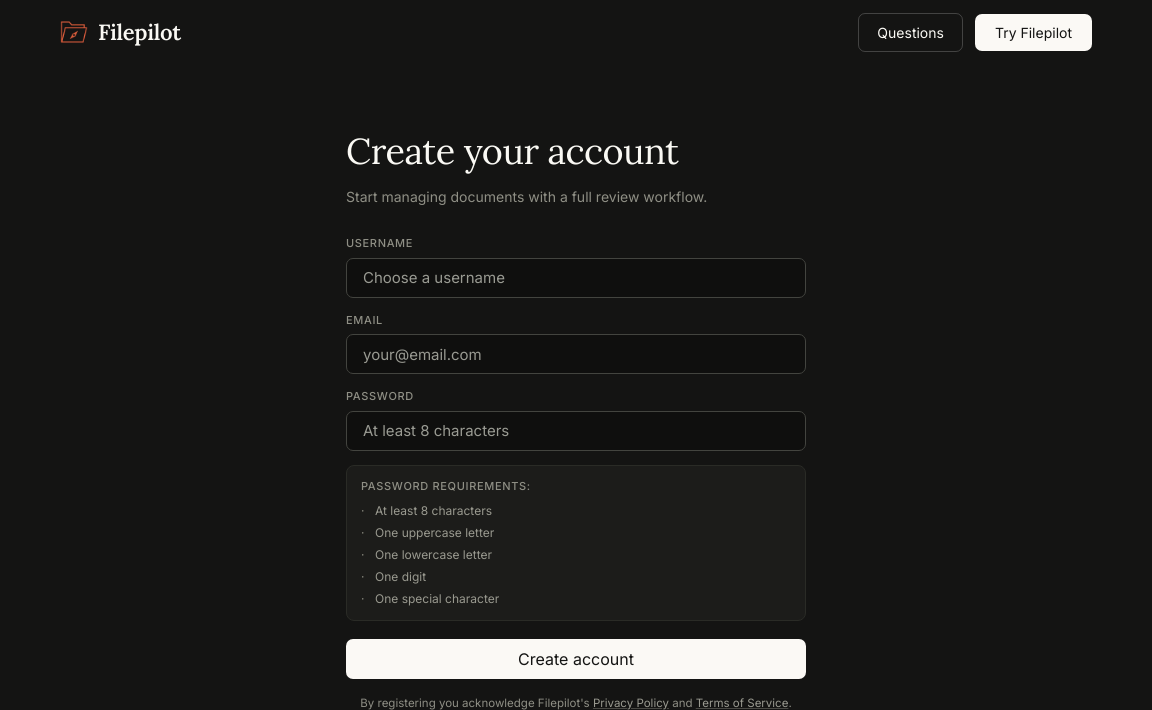
Test: RegisterPage – form submission › displays fallback error when no server message
In the field with placeholder "Choose a username": (576, 278) 346,258 -> 806,298, type "alice"
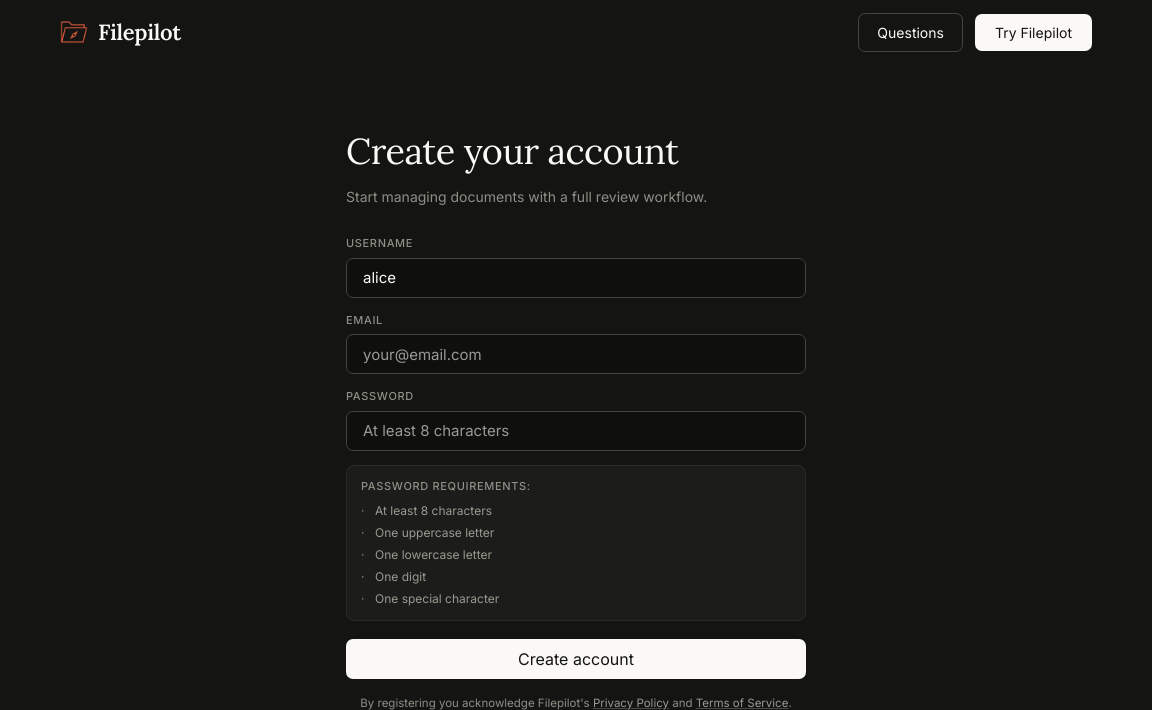
In the field with placeholder "your@email.com": (576, 354) 346,334 -> 806,374, type "a@b.com"
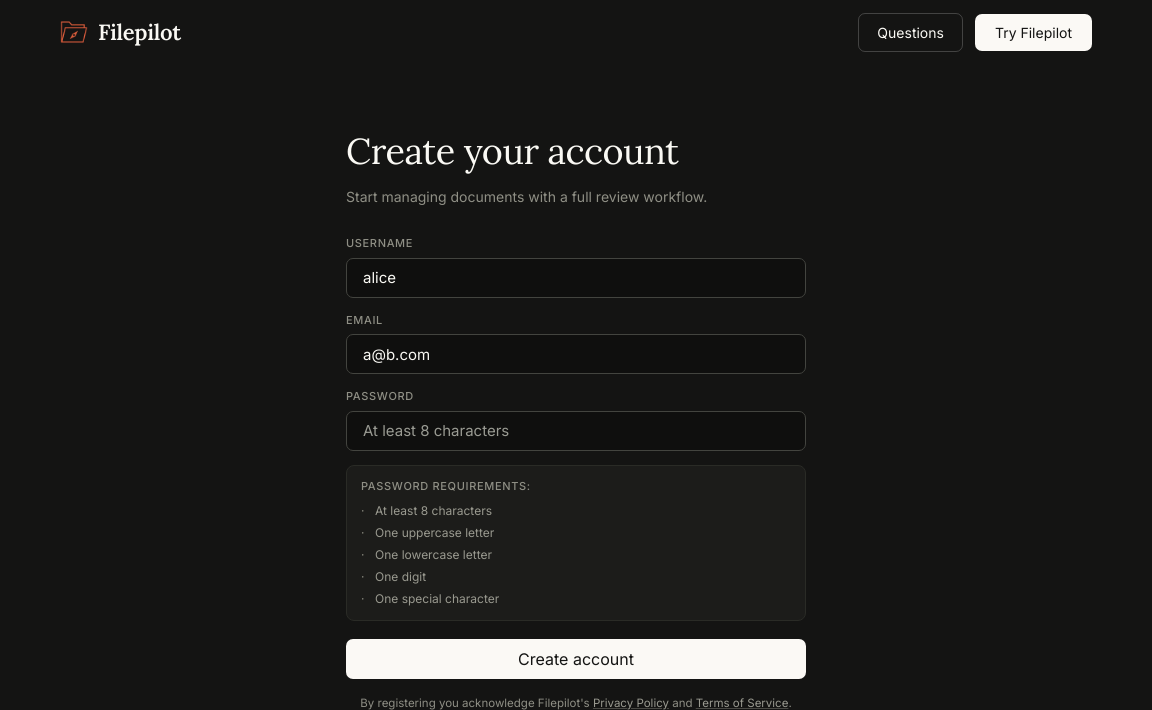
In the password field with placeholder "At least 8 characters": (576, 430) 346,410 -> 806,450, type "Abcdef1!"
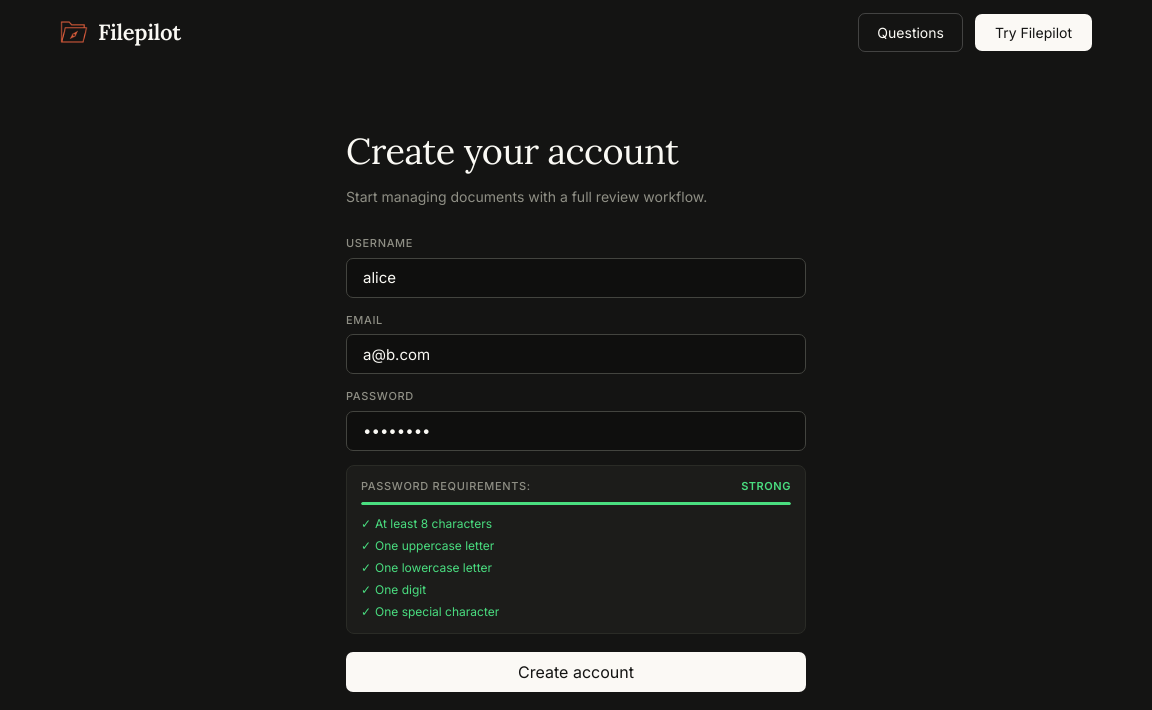
Submit the form named "create account", box 346,235 -> 806,692
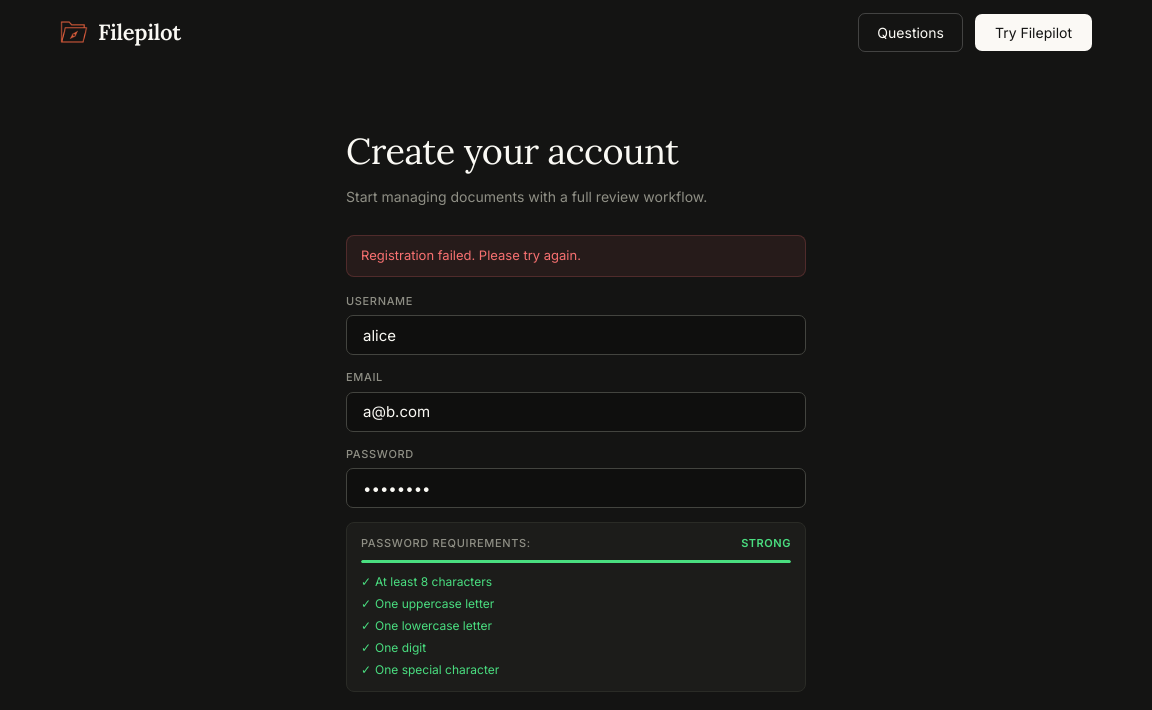
Check: the text "Registration failed. Please try again." is shown, box 346,235 -> 806,276
